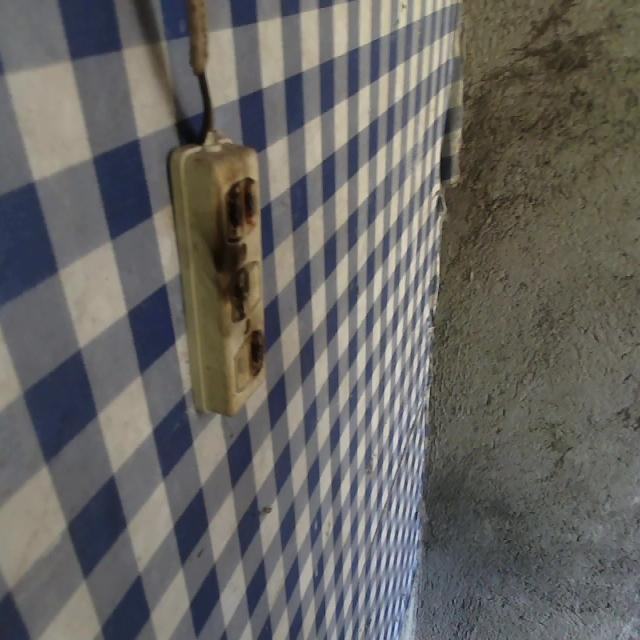-: (220, 176, 260, 239), (225, 264, 251, 315), (247, 331, 263, 376)
